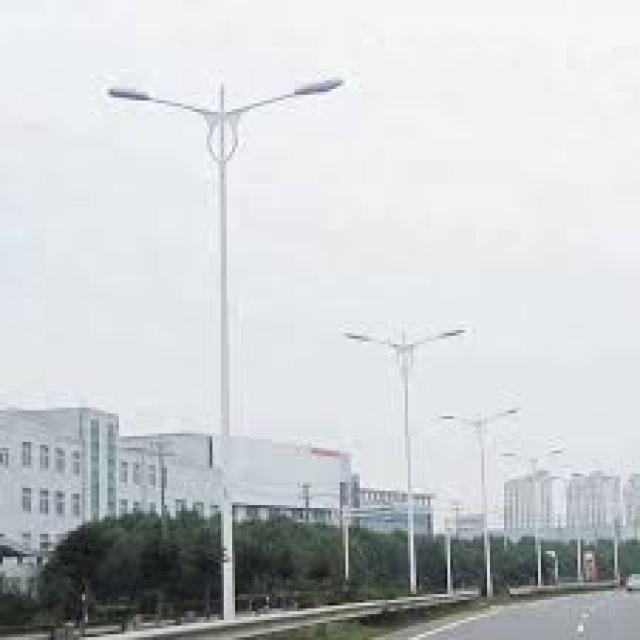Street Light: (107, 75, 346, 617), (346, 324, 464, 594), (439, 405, 518, 594), (502, 445, 566, 585)
